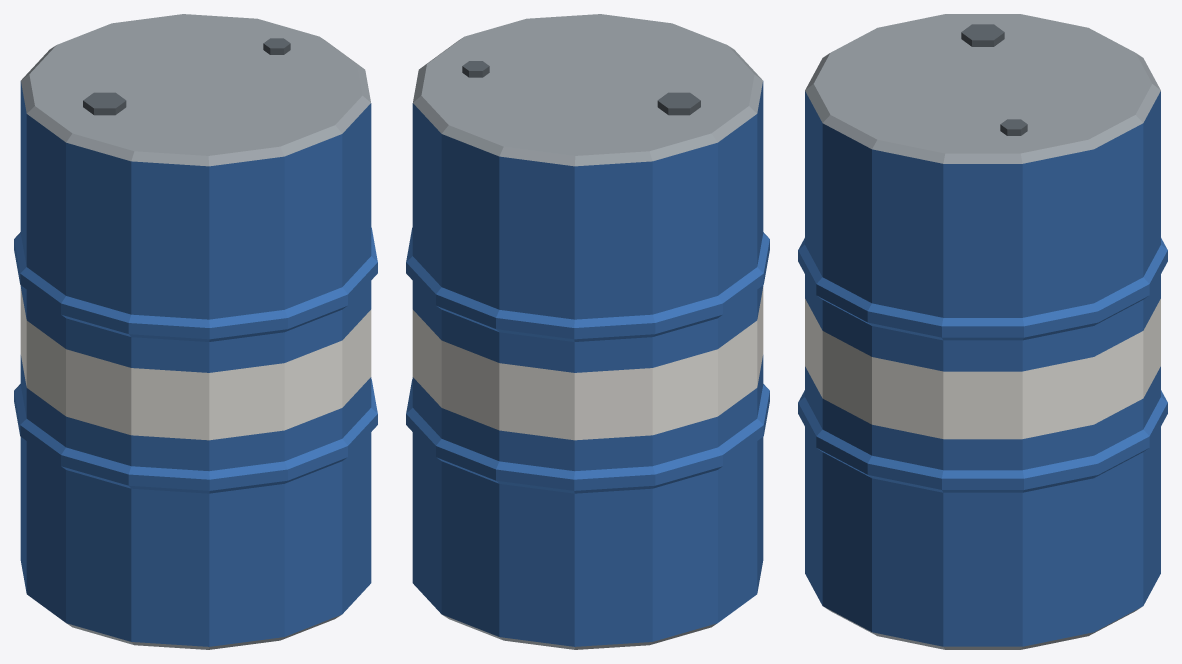
Rendered from SM_Workshop_Drum_Oil_01.fbx.
The picture shows the model from 3 angles, left to right: view 1: azimuth 30°, elevation 25°; view 2: azimuth 150°, elevation 25°; view 3: azimuth 270°, elevation 25°; orthographic projection.
Visible parts, largest first — view 1: SM_Workshop_Drum_Oil_01; view 2: SM_Workshop_Drum_Oil_01; view 3: SM_Workshop_Drum_Oil_01.
Boxes of the visible parts, x1,y1,x2,y2 form: SM_Workshop_Drum_Oil_01: (14,14,377,649); SM_Workshop_Drum_Oil_01: (406,14,769,649); SM_Workshop_Drum_Oil_01: (798,14,1167,649).
Size of what is drawn, in the model's own units: 0.5791 by 0.892 by 0.594.
1 material, 1 textured.
